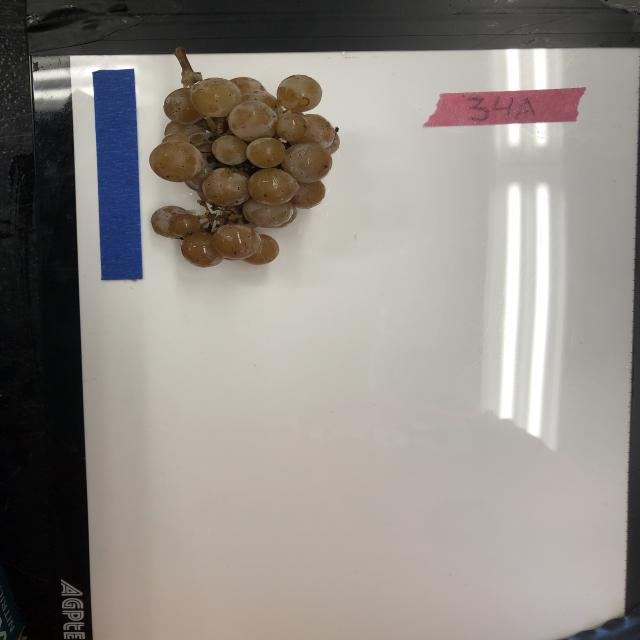grape_cluster: (145, 45, 342, 268)
index: (424, 90, 594, 128)
measure_label: (90, 66, 145, 282)
